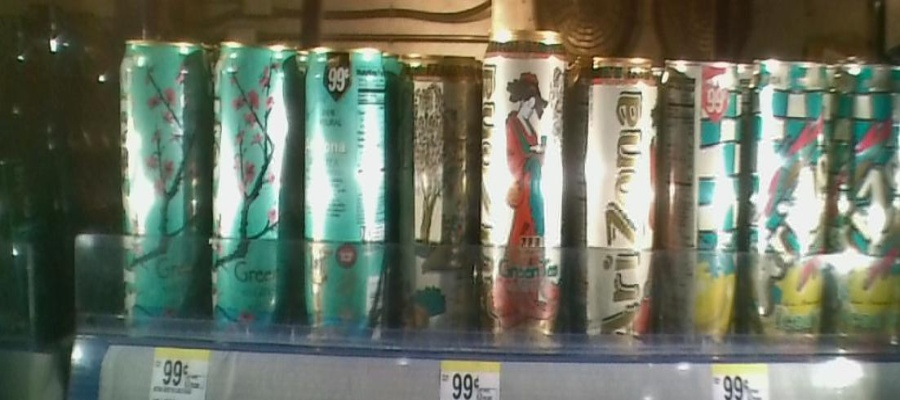bottle: (108, 30, 210, 348), (479, 22, 572, 351), (212, 37, 302, 350), (578, 42, 663, 369), (306, 36, 394, 348), (749, 42, 831, 359), (668, 44, 742, 362), (398, 35, 473, 344), (839, 46, 897, 366)
